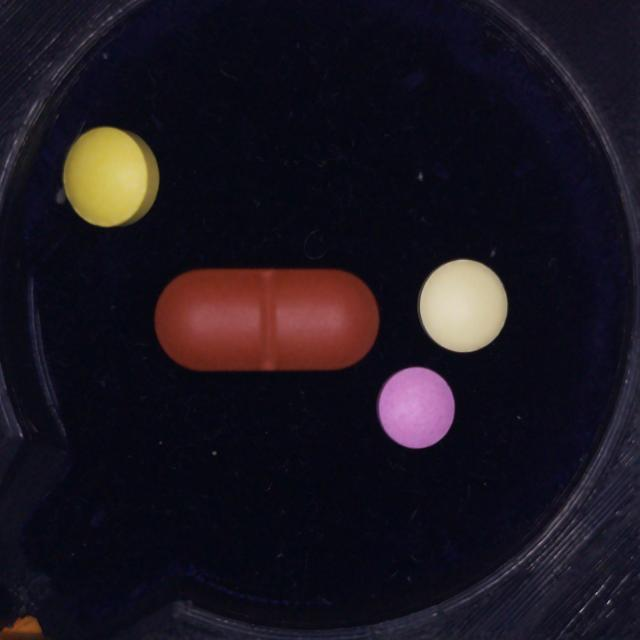Pill: (154, 269, 379, 371), (63, 127, 159, 228), (418, 259, 508, 353), (376, 367, 455, 449)
